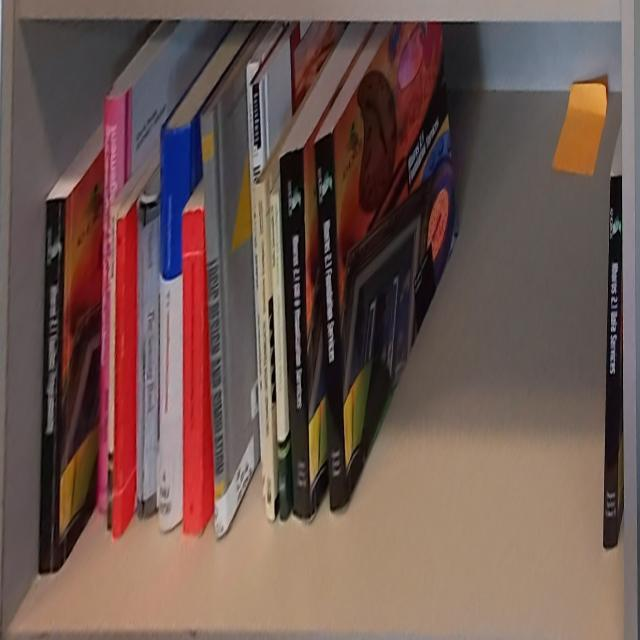Book Spine: (158, 123, 190, 532), (314, 134, 347, 512), (279, 148, 312, 519), (96, 94, 125, 514), (200, 109, 228, 539), (37, 196, 67, 575), (181, 210, 205, 534), (603, 173, 622, 550), (255, 177, 275, 519), (270, 192, 288, 521), (144, 205, 161, 520), (112, 214, 126, 541), (107, 207, 118, 532), (135, 203, 145, 517)
